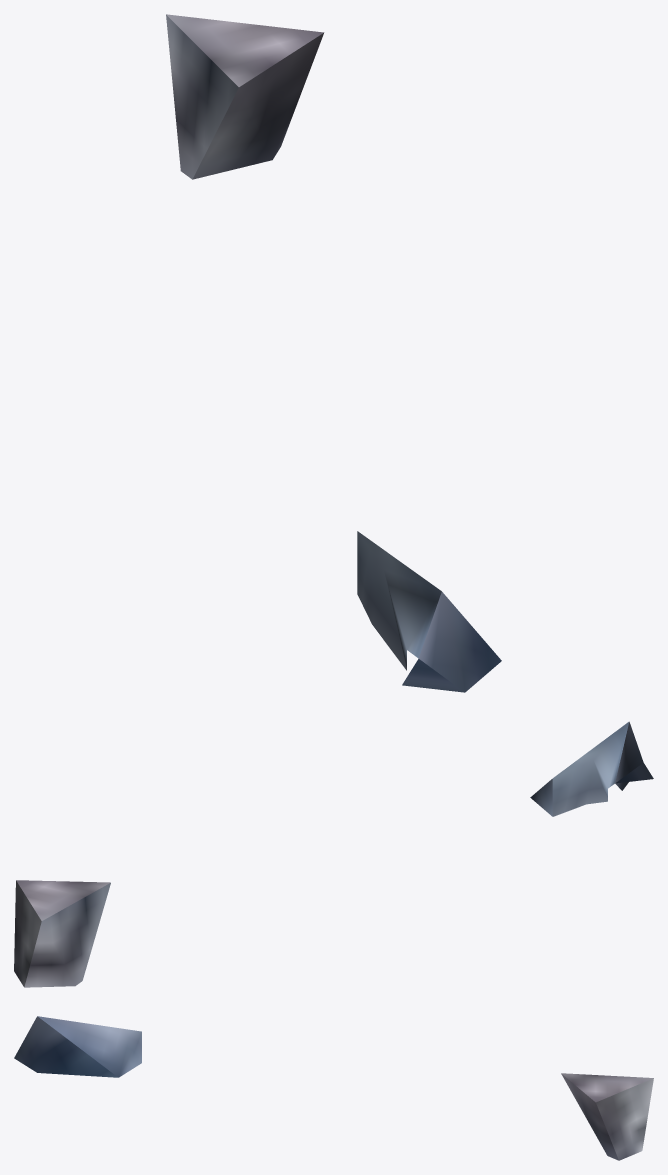
3 views of the same model, one above another, from view 1: azimuth 30°, elevation 25°; view 2: azimuth 150°, elevation 25°; view 3: azimuth 270°, elevation 25° (orthographic). The views are drawn at different scales.
Visible parts, largest first — view 1: 30436272704361626663_0; view 2: 30436272704361626663_0; view 3: 30436272704361626663_0.
Boxes of the visible parts, x1,y1,x2,y2 form: 30436272704361626663_0: (166, 14, 501, 692); 30436272704361626663_0: (14, 721, 653, 987); 30436272704361626663_0: (14, 1016, 653, 1160).
Size of the model in its own units: 3.68 by 1.08 by 8.48.
Materials: 1 (1 with a texture image).
